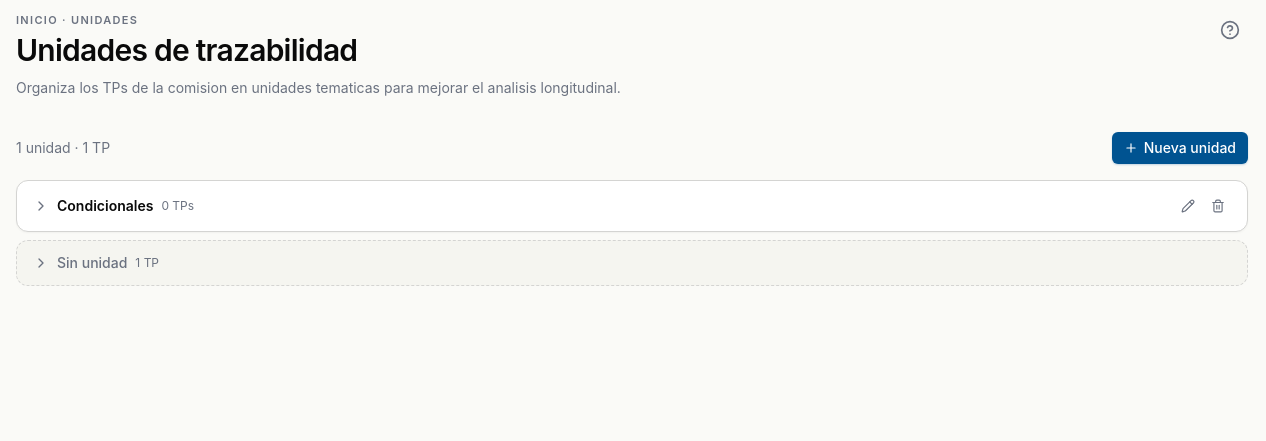
Test case: UnidadesView — errores de escritura inline › el banner se puede cerrar
Click the button "Sin unidad 1 TP".
click(92, 262)  # box [17,241,1247,285]
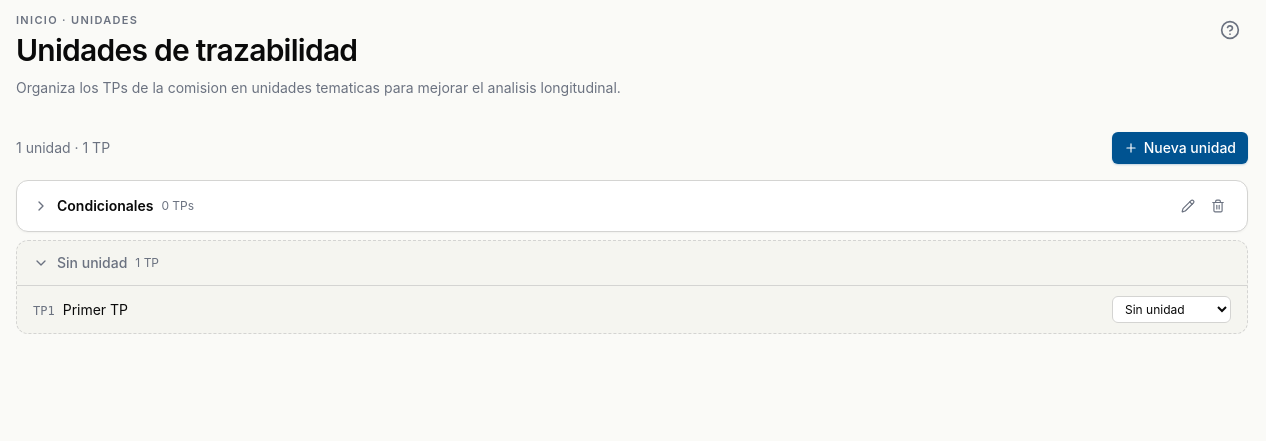
Select "Condicionales" in the dropdown at (1172, 309), box [1112,296,1231,323]
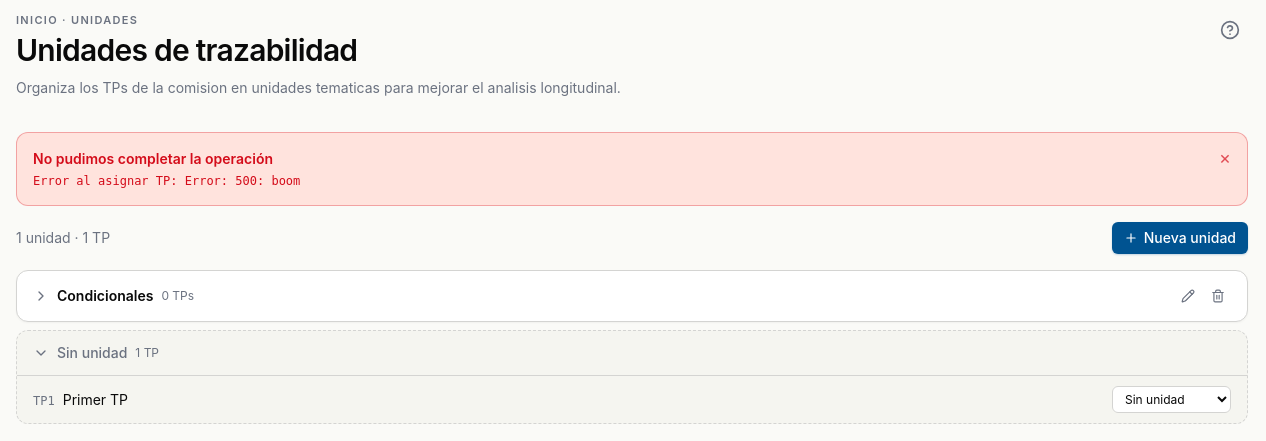
Check: the message "No pudimos completar la operación Error al asignar TP: Error: 500: boom ×" is shown, box [16,132,1248,206]
Click the button named "Cerrar aviso".
click(1225, 158)  # box [1219,149,1231,167]
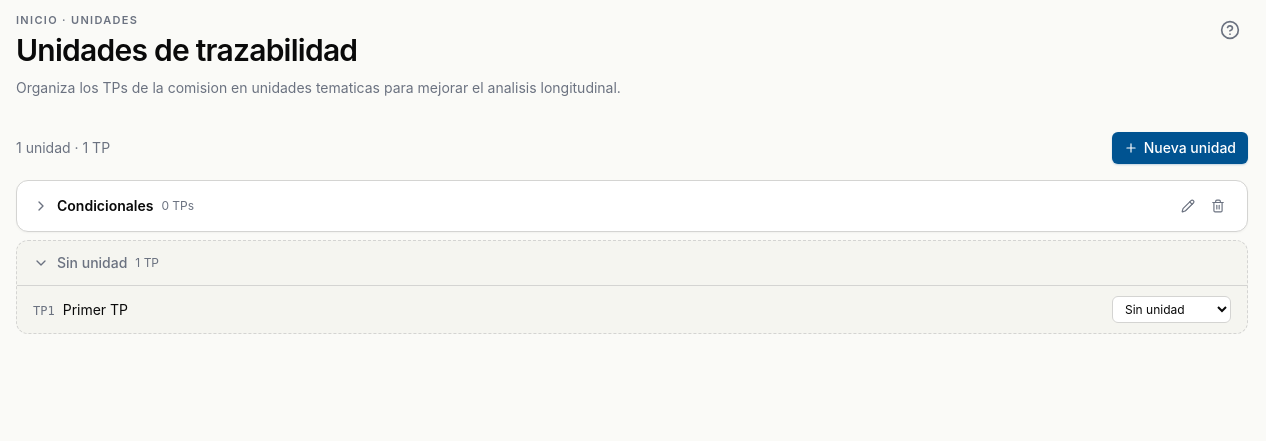
Check: the message with test id "unidades-action-error" is gone
